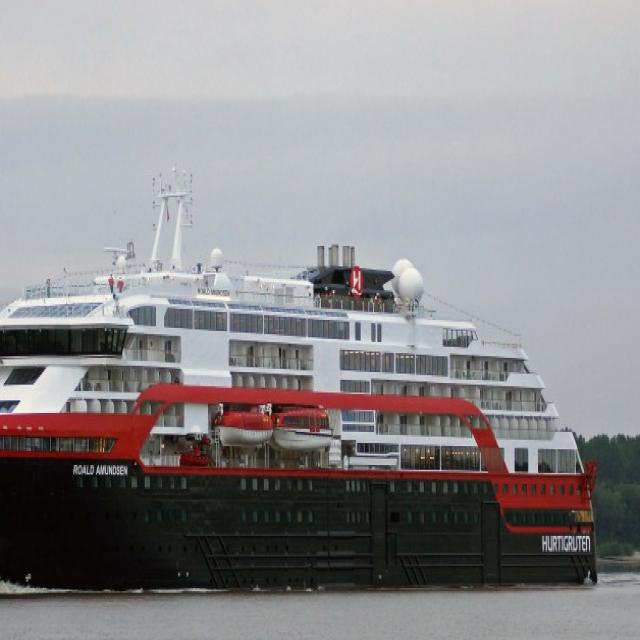cruises: (1, 152, 609, 603)
